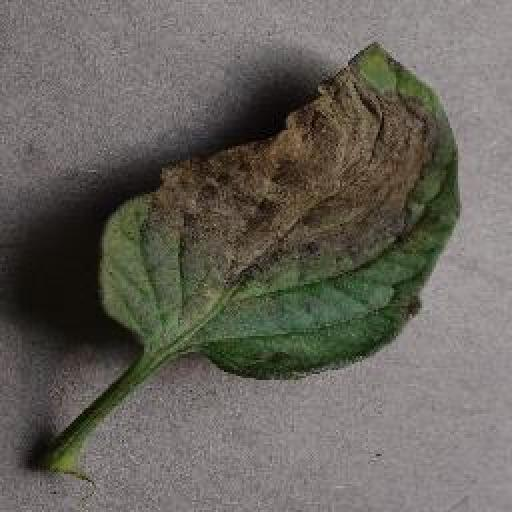Late Blight: (92, 38, 465, 386)
